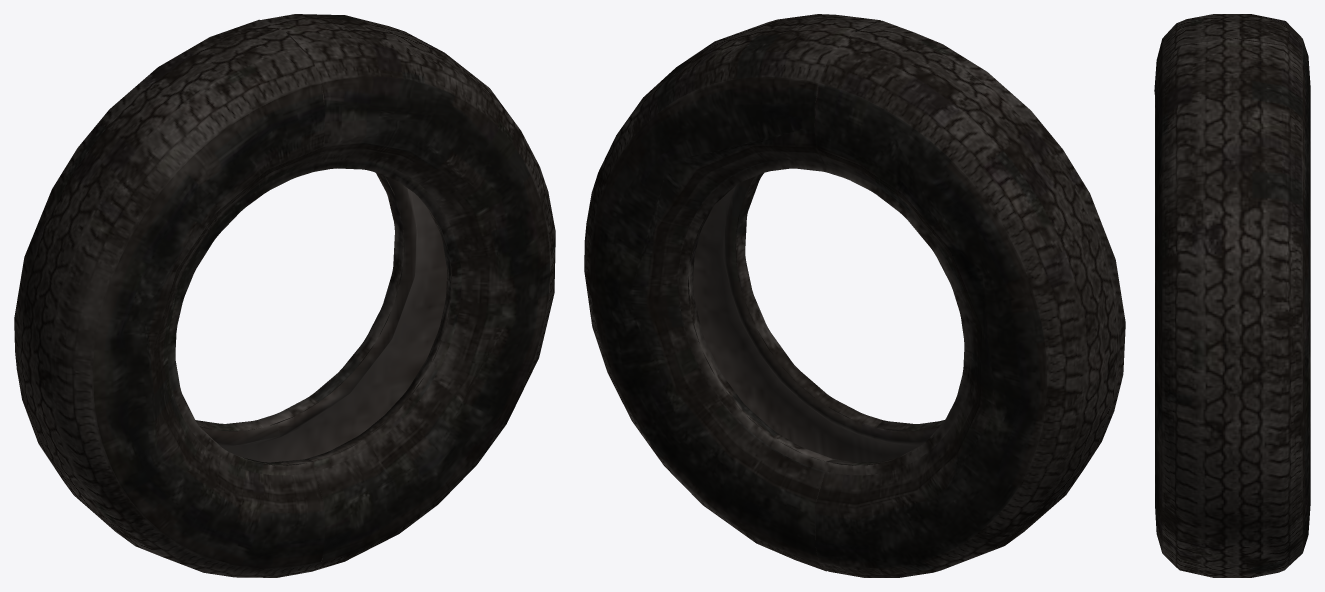
Rendered from old_tyre.glb.
3 views of the same model, side by side, from view 1: azimuth 30°, elevation 25°; view 2: azimuth 150°, elevation 25°; view 3: azimuth 270°, elevation 25° (orthographic). The views are drawn at different scales.
Parts seen in each view (by area): view 1: old_tyre; view 2: old_tyre; view 3: old_tyre.
Boxes of the visible parts, x1=… form: old_tyre: x1=14, y1=14, x2=555, y2=577; old_tyre: x1=584, y1=14, x2=1125, y2=577; old_tyre: x1=1154, y1=14, x2=1310, y2=577.
Bounding box in the file's own units: 0.6002 × 0.6035 × 0.1656.
Materials: 1 (1 with a texture image).
